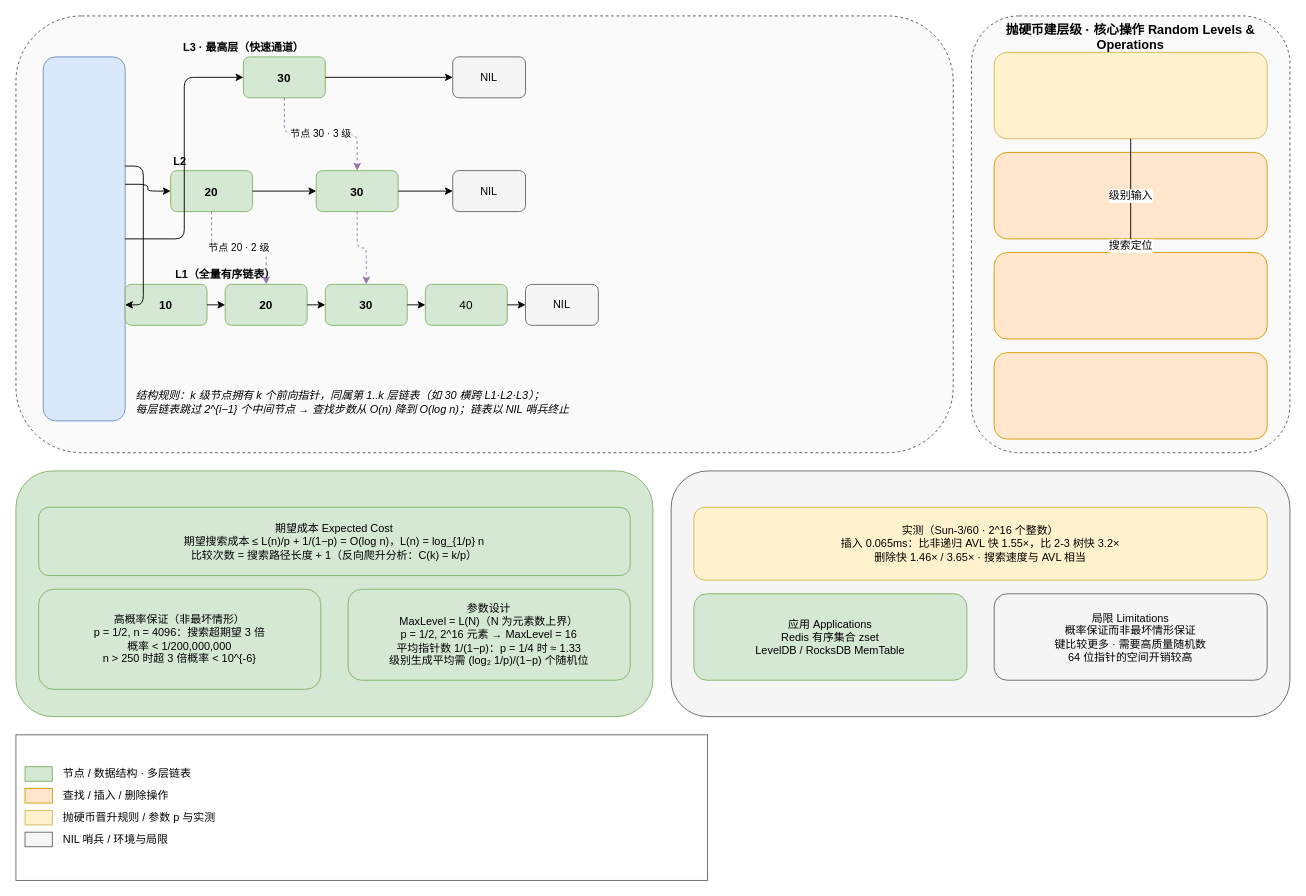
Image size: 1306x896. Some labels were removed from this diagram. The box of each missing label's shape, as (x1, y1, x2, y2) in pixels:
删除 Delete 搜索定位目标 → 各层重新链接 前驱 → 后继；删除最大元素后 降低列表最大级别: (993, 352, 1267, 439)
图例 Legend: (15, 734, 708, 880)
多层链表结构 Multi-Level Linked List（每层 = 跳过中间节点的“快速通道”）: (15, 15, 953, 453)
头节点 Head （含 1..MaxLevel 前向指针）: (42, 56, 125, 421)
实测对比与影响 Benchmarks & Impact: (670, 470, 1290, 717)
抛硬币建层级（晋升规则） 新节点级别 = 连续晋升级数 P(级别 ≥ k+1 | ≥ k) = p p = 1/2（方差小）或 p = 1/4（更省空间）: (993, 51, 1267, 139)
插入 Insert 搜索同时记录 update 向量（各级前驱） 抛硬币生成级别 → 逐层拼接新节点 必要时提升列表最大级别: (993, 252, 1267, 339)
查找 Search —— 从最高层下探 在当前层横向右移，指针将越过目标 时下移一层；到第 1 层定位目标或失败: (993, 152, 1267, 239)
理论保证 Theoretical Guarantees（概率平衡哲学）: (15, 470, 653, 717)
